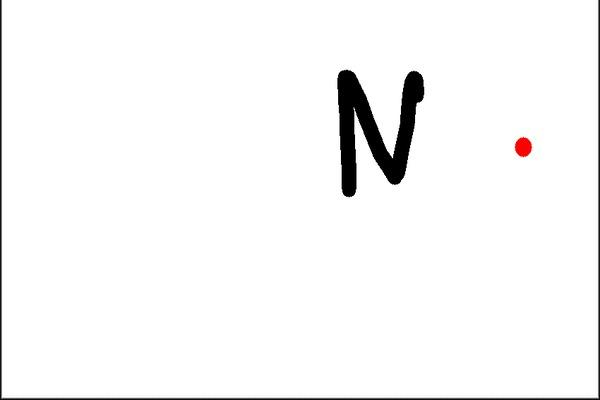N: (327, 61, 430, 207)
